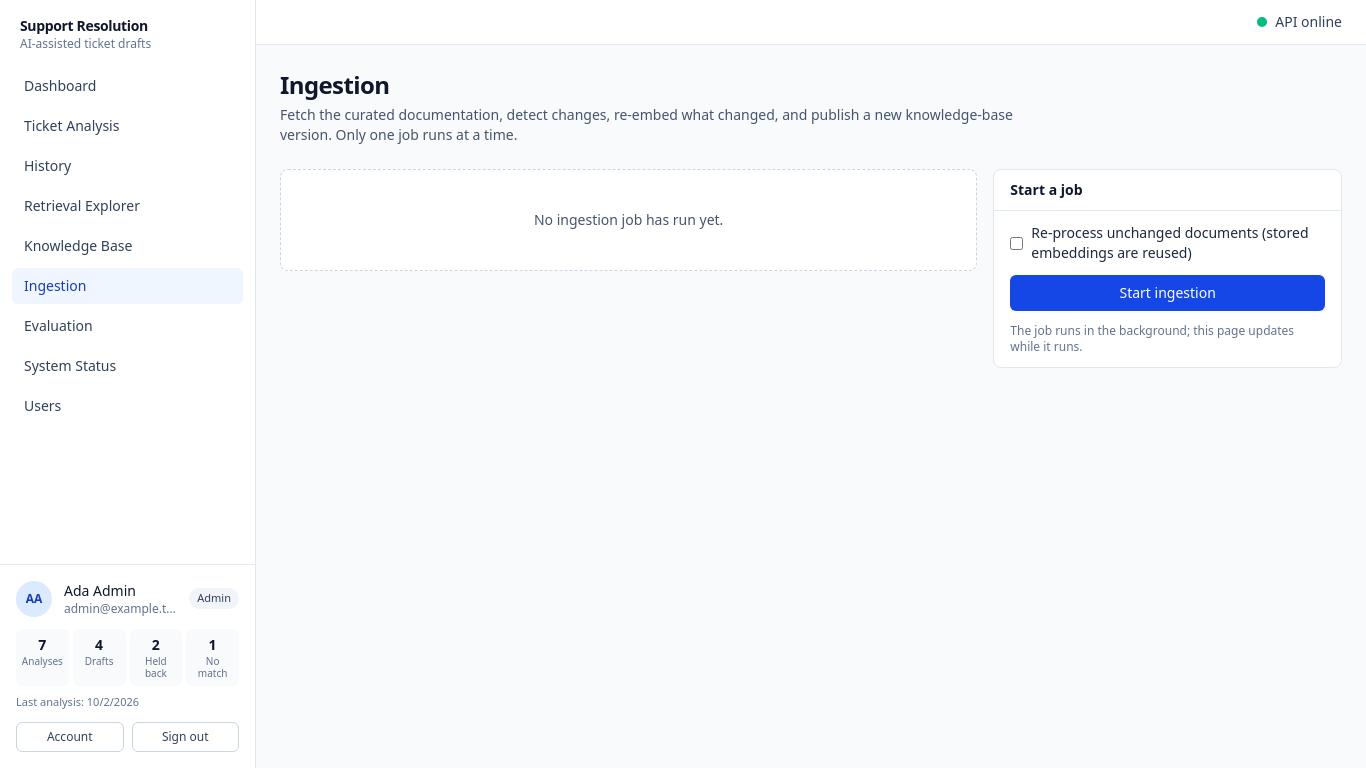
Ingestion › lets admins start a job with their session and no token
Expected: the text "No ingestion job has run yet." is shown, x1=280 y1=169 x2=977 y2=271
Click the button "Start ingestion".
click(1168, 293)  # box x1=1010 y1=275 x2=1325 y2=311
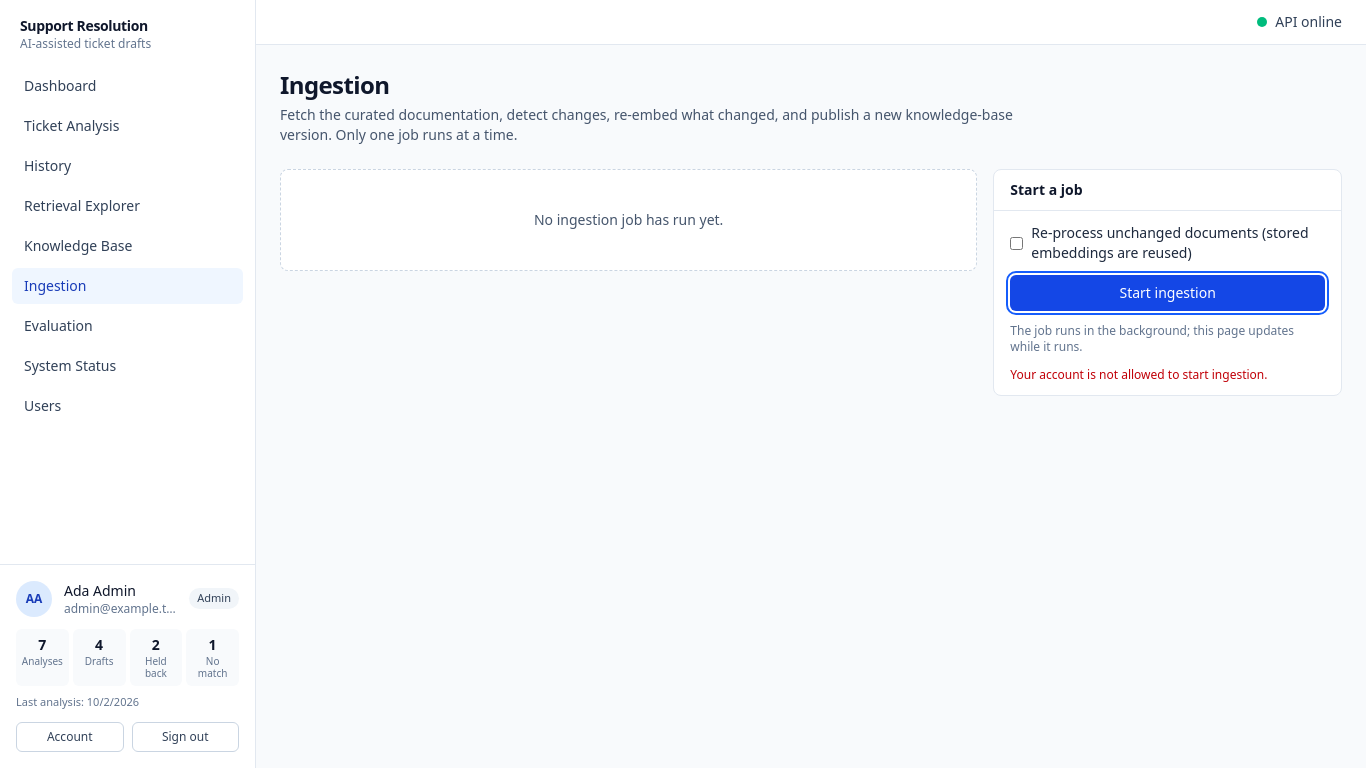
Expected: the text "Your account is not allowed to start ingestion." is shown, x1=1010 y1=366 x2=1267 y2=383
